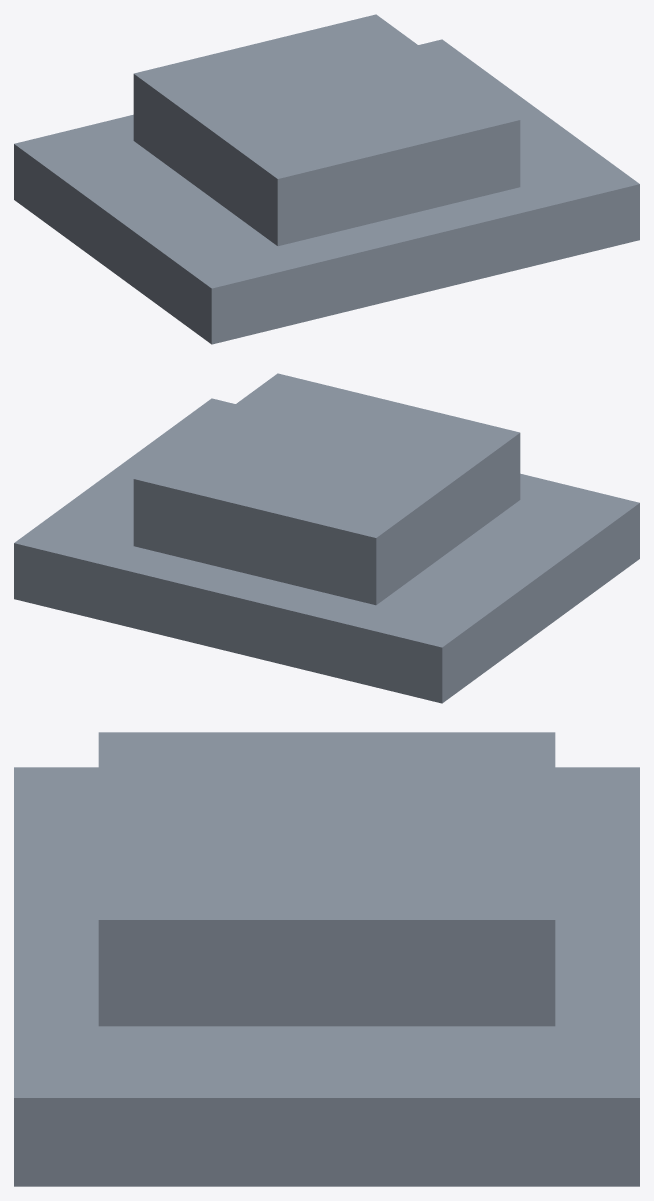
Rendered from step_02.glb.
3 renders of one model, top to bottom at view 1: azimuth 30°, elevation 25°; view 2: azimuth 150°, elevation 25°; view 3: azimuth 270°, elevation 25°, orthographic. The views are drawn at different scales.
Visible parts, largest first — view 1: part__saddle bearing block; view 2: part__saddle bearing block; view 3: part__saddle bearing block.
Boxes of the visible parts, bbox=[...] form: part__saddle bearing block: bbox=[14, 14, 639, 344]; part__saddle bearing block: bbox=[14, 373, 639, 703]; part__saddle bearing block: bbox=[14, 732, 639, 1186].
Bounding box in the file's own units: 120 × 33 × 96.
